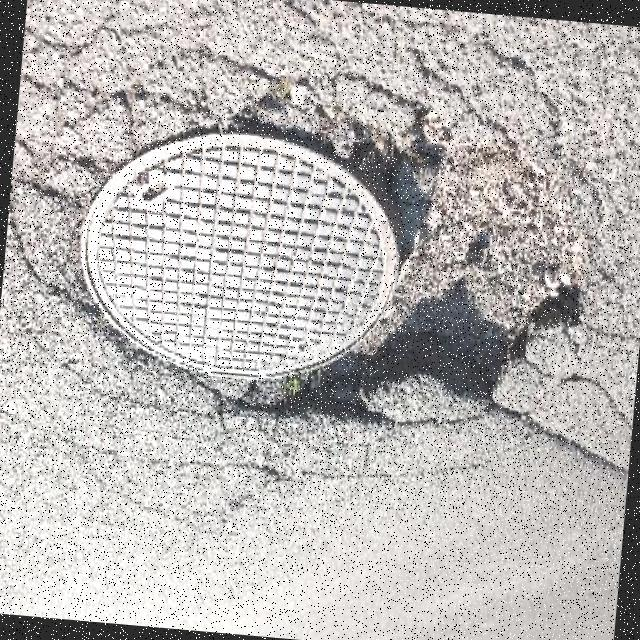Pothole: (221, 72, 580, 422)
